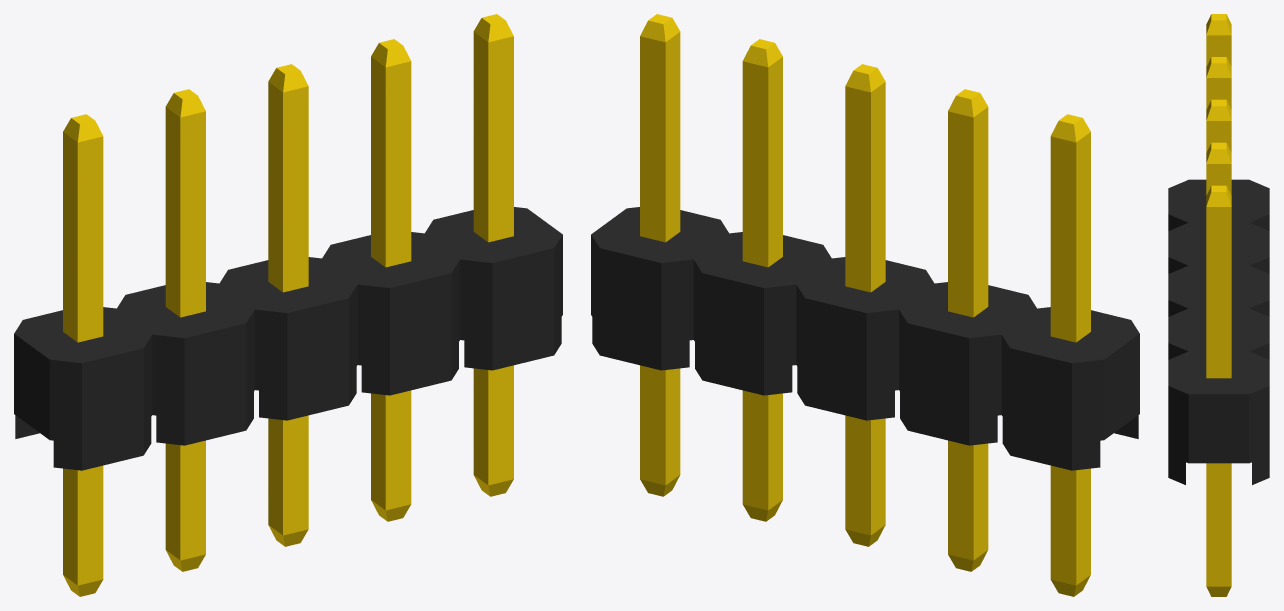
File: PLS2-5.glb
3 renders of one model, left to right at view 1: azimuth 30°, elevation 25°; view 2: azimuth 150°, elevation 25°; view 3: azimuth 270°, elevation 25°, orthographic. The views are drawn at different scales.
Parts seen in each view (by area): view 1: PLS2 (DS1025-01 CONNFLY); view 2: PLS2 (DS1025-01 CONNFLY); view 3: PLS2 (DS1025-01 CONNFLY).
Part boxes in pixels (x1=…): PLS2 (DS1025-01 CONNFLY): x1=14, y1=14, x2=562, y2=596; PLS2 (DS1025-01 CONNFLY): x1=591, y1=14, x2=1139, y2=596; PLS2 (DS1025-01 CONNFLY): x1=1168, y1=14, x2=1269, y2=596.
Bounding box in the file's own units: 0.01 × 0.0088 × 0.002.
